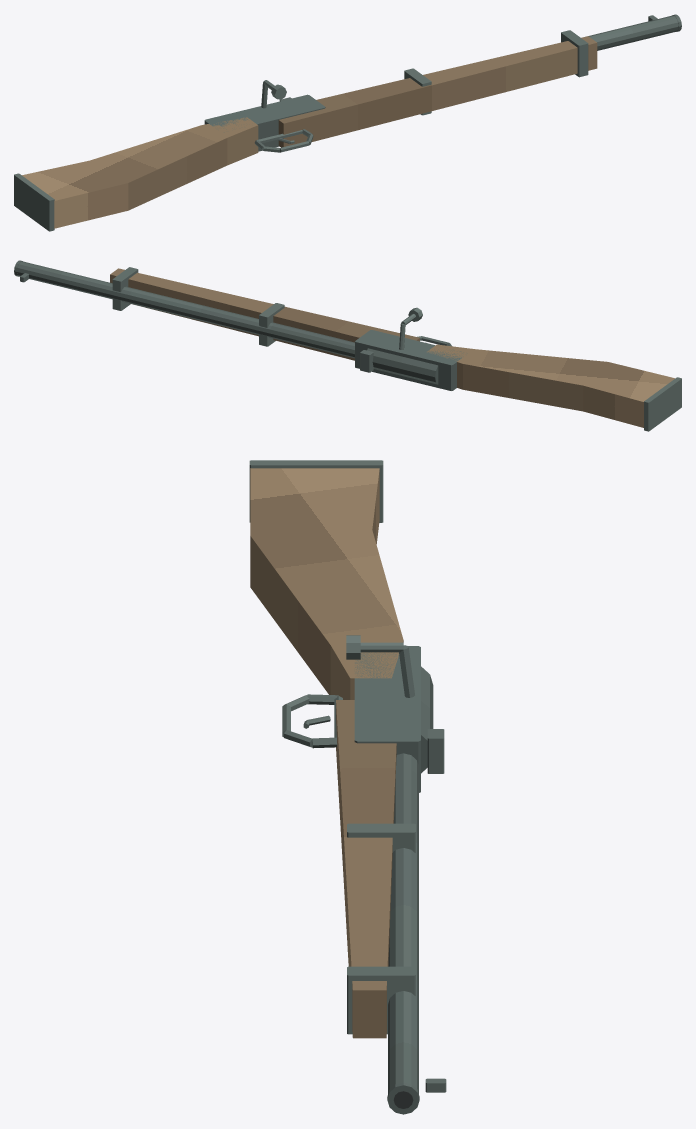
The model's file is weapon-kar98k.glb.
3 renders of one model, top to bottom at view 1: azimuth 30°, elevation 25°; view 2: azimuth 150°, elevation 25°; view 3: azimuth 270°, elevation 25°, orthographic. The views are drawn at different scales.
Parts seen in each view (by area): view 1: weapon-kar98k/shaped-solid-butt, weapon-kar98k/tapered-full-depth-forend, weapon-kar98k/central-receiver, weapon-kar98k/butt-end-plate, weapon-kar98k/long-barrel, weapon-kar98k/stock-band-1; view 2: weapon-kar98k/shaped-solid-butt, weapon-kar98k/long-barrel, weapon-kar98k/tapered-full-depth-forend, weapon-kar98k/central-receiver, weapon-kar98k/receiver-top-cylinder, weapon-kar98k/butt-end-plate, weapon-kar98k/stock-band-1, weapon-kar98k/stock-band-0, weapon-kar98k/rear-sight; view 3: weapon-kar98k/shaped-solid-butt, weapon-kar98k/tapered-full-depth-forend, weapon-kar98k/long-barrel, weapon-kar98k/central-receiver, weapon-kar98k/stock-band-1, weapon-kar98k/butt-end-plate, weapon-kar98k/stock-band-0, weapon-kar98k/receiver-top-cylinder.
Boxes of the visible parts, x1,y1,x2,y2 form: weapon-kar98k/shaped-solid-butt: (22, 117, 258, 228); weapon-kar98k/tapered-full-depth-forend: (278, 36, 597, 147); weapon-kar98k/central-receiver: (204, 94, 325, 151); weapon-kar98k/butt-end-plate: (14, 173, 54, 231); weapon-kar98k/long-barrel: (588, 15, 678, 50); weapon-kar98k/stock-band-1: (561, 30, 588, 77); weapon-kar98k/shaped-solid-butt: (427, 344, 674, 427); weapon-kar98k/long-barrel: (17, 261, 354, 358); weapon-kar98k/tapered-full-depth-forend: (110, 268, 419, 360); weapon-kar98k/central-receiver: (355, 330, 467, 390); weapon-kar98k/receiver-top-cylinder: (367, 348, 438, 384); weapon-kar98k/butt-end-plate: (644, 377, 681, 431); weapon-kar98k/stock-band-1: (112, 267, 138, 310); weapon-kar98k/stock-band-0: (259, 303, 284, 346); weapon-kar98k/rear-sight: (360, 350, 373, 372); weapon-kar98k/shaped-solid-butt: (250, 468, 403, 699); weapon-kar98k/tapered-full-depth-forend: (336, 700, 396, 1038); weapon-kar98k/long-barrel: (388, 753, 418, 1093); weapon-kar98k/central-receiver: (354, 646, 420, 792); weapon-kar98k/stock-band-1: (347, 966, 415, 1034); weapon-kar98k/butt-end-plate: (249, 460, 383, 522); weapon-kar98k/stock-band-0: (347, 823, 415, 852); weapon-kar98k/receiver-top-cylinder: (421, 666, 433, 773).
Size of the model in its own units: 1.11 by 0.1 by 0.1515.
3 materials, 3 textured.
